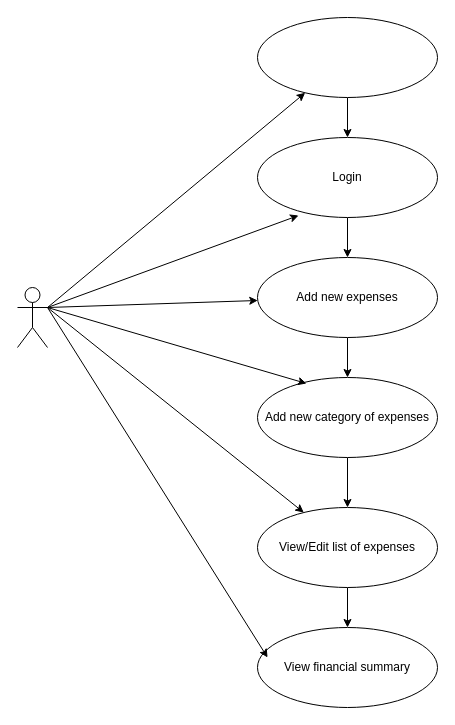
This 455x725 diagram has some shape labels left out. The shapes that lost their labels are listed below. From the top down, each one's box as (x1, y1, x2, y2) in pixels, then its label:
(256, 16, 438, 98): Create Account
(16, 286, 48, 348): User
